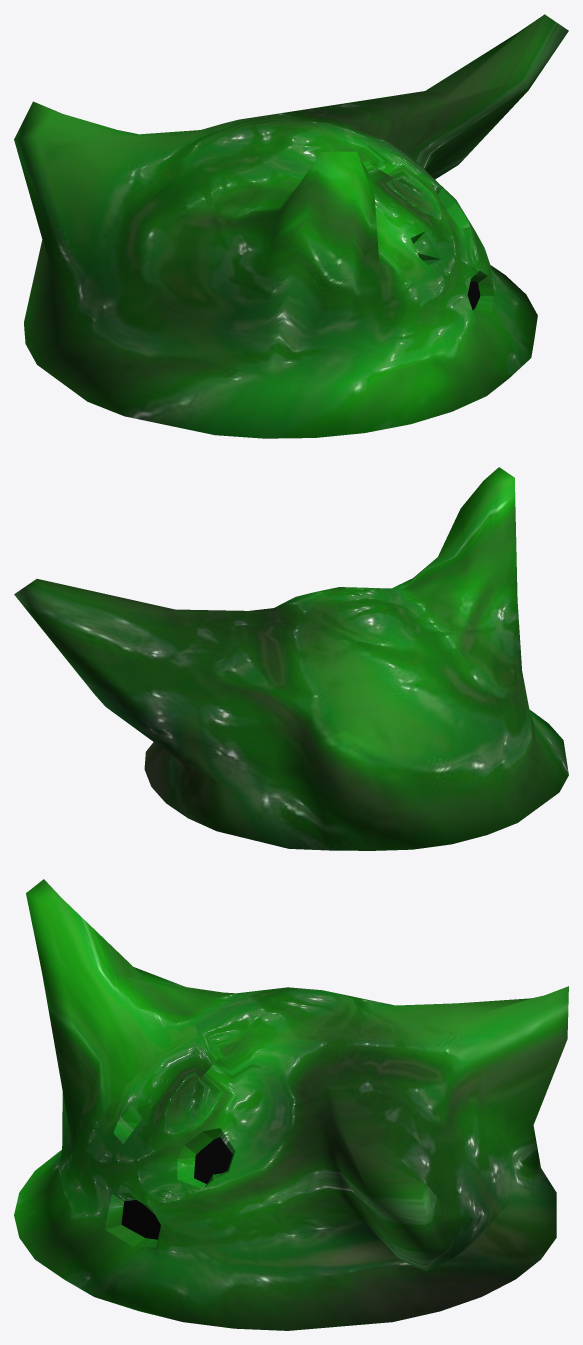
File: mdl_Jija.FBX
The picture shows the model from 3 angles, top to bottom: view 1: azimuth 30°, elevation 25°; view 2: azimuth 150°, elevation 25°; view 3: azimuth 270°, elevation 25°; orthographic projection. The views are drawn at different scales.
Parts seen in each view (by area): view 1: Sphere001; view 2: Sphere001; view 3: Sphere001, Plane002, Plane003.
Part boxes in pixels (x1,y1,x2,y2): Sphere001: (14,14,568,438); Sphere001: (14,467,568,850); Sphere001: (14,879,568,1330); Plane002: (194,1137,232,1183); Plane003: (121,1200,160,1239).
Size of the model in its own units: 133 by 63.87 by 105.
